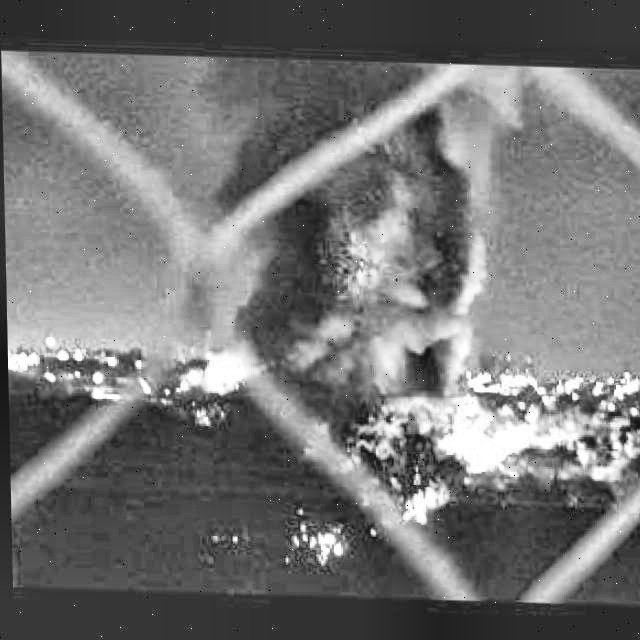Fire: (440, 412, 533, 474), (395, 478, 454, 522), (305, 523, 349, 562)
Smoke: (248, 45, 473, 426)
